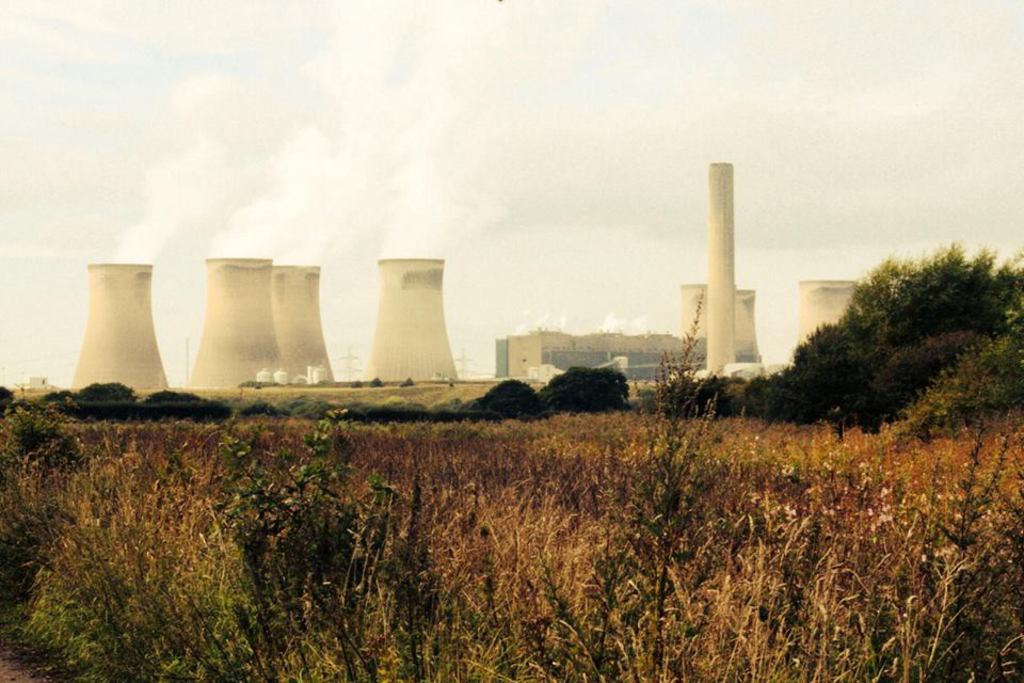Tree: (644, 237, 1024, 434), (538, 365, 628, 418), (466, 377, 541, 423), (40, 382, 138, 402), (144, 388, 199, 403), (0, 386, 14, 420)
